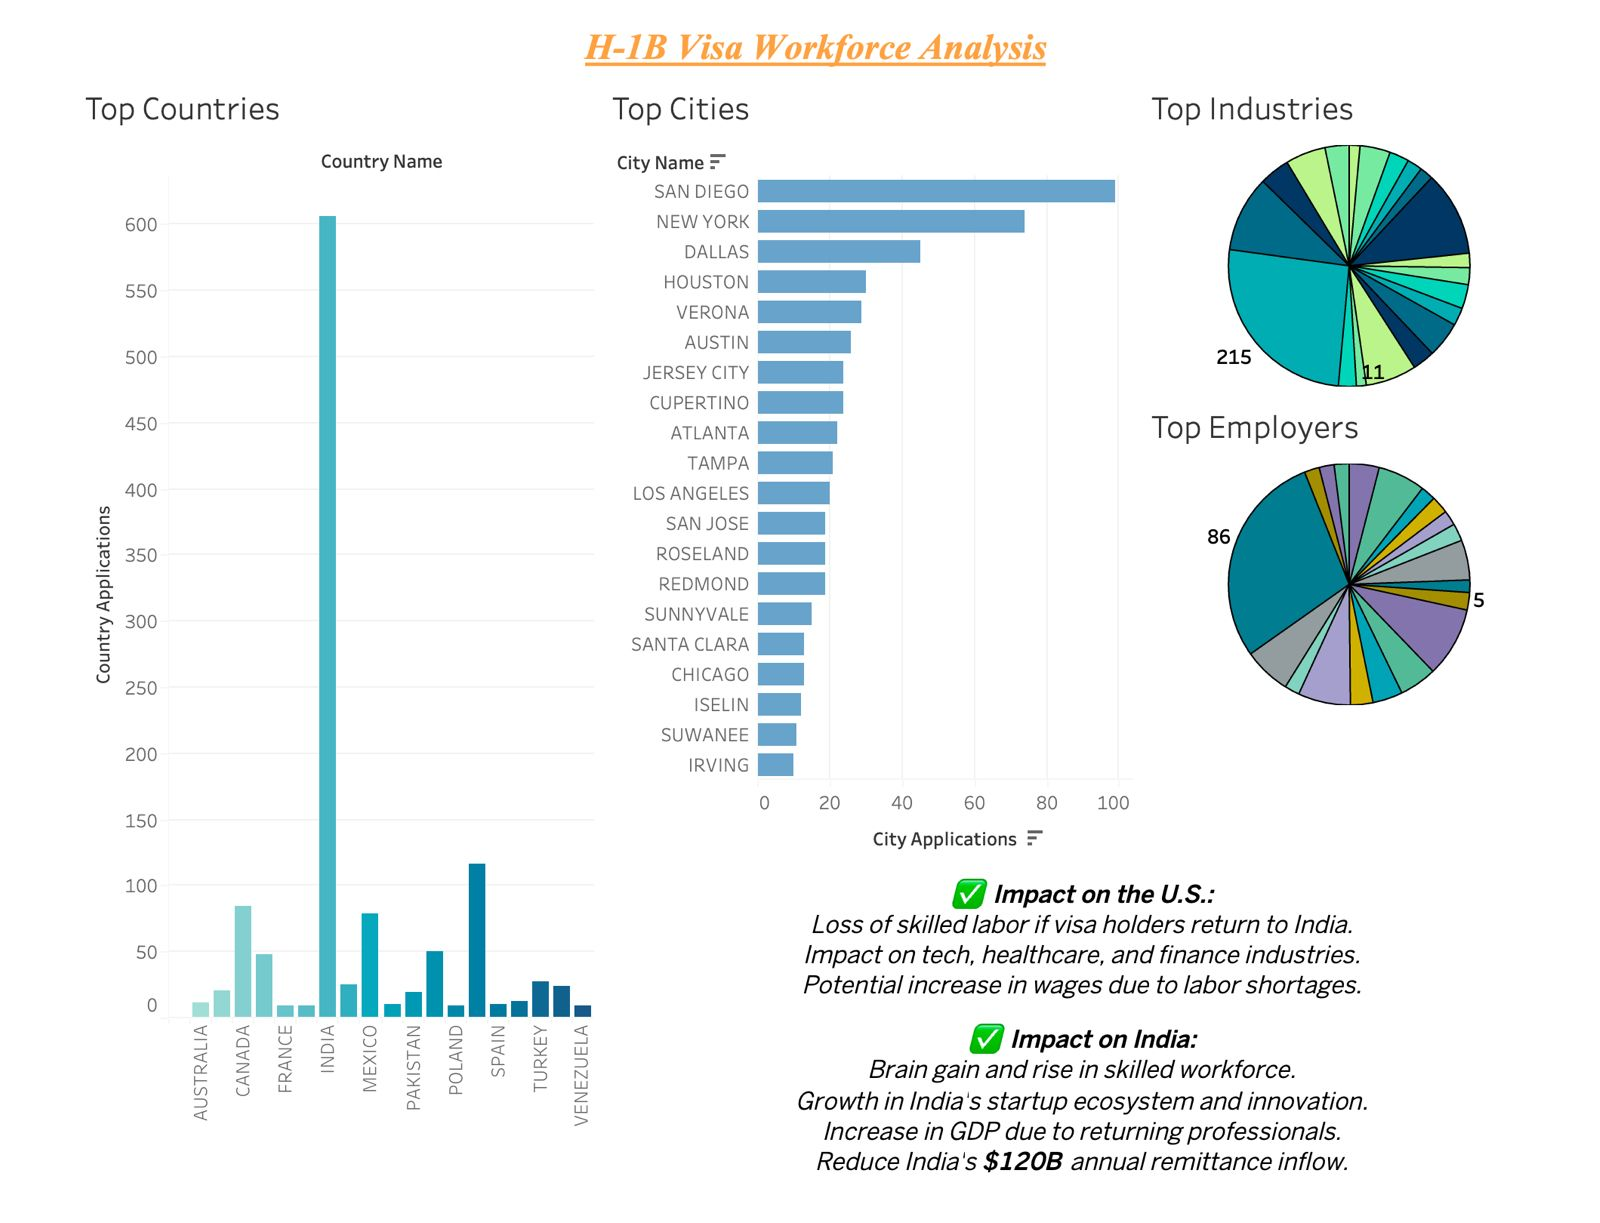

Layout of this report page (visuals, bound fields, positions):
{"tool":"tableau","page":{"name":"Dashboard 1","canvas":[1000,800],"ordinal":0},"visuals":[{"type":"title","box":[8,8,984,35]},{"type":"worksheet","title":"Top Countries","mark":"Automatic","rows":["Country Applications"],"cols":["Country Name"],"box":[8,43,348.8,749]},{"type":"worksheet","title":"Top Cities","mark":"Automatic","rows":["City Name"],"cols":["City Applications"],"box":[356.8,43,357.2,749]},{"type":"worksheet","title":"Top Industries","mark":"Pie","box":[714,43,278,211]},{"type":"worksheet","title":"Top Employers","mark":"Pie","box":[714,254,278,211]},{"type":"text","box":[378,567,596,223]}]}

Visuals, with their boxes on the page's 1000x800 design canvas (x1, y1, x2, y2). These are canvas units, not pixel positions in the 1600x1223 screenshot, which may show the page scaled, cropped or inside an application window:
title: pyautogui.locateOnScreen(8, 8, 992, 43)
"Top Countries" worksheet: pyautogui.locateOnScreen(8, 43, 357, 792)
"Top Cities" worksheet: pyautogui.locateOnScreen(357, 43, 714, 792)
"Top Industries" worksheet (Pie marks): pyautogui.locateOnScreen(714, 43, 992, 254)
"Top Employers" worksheet (Pie marks): pyautogui.locateOnScreen(714, 254, 992, 465)
text: pyautogui.locateOnScreen(378, 567, 974, 790)
